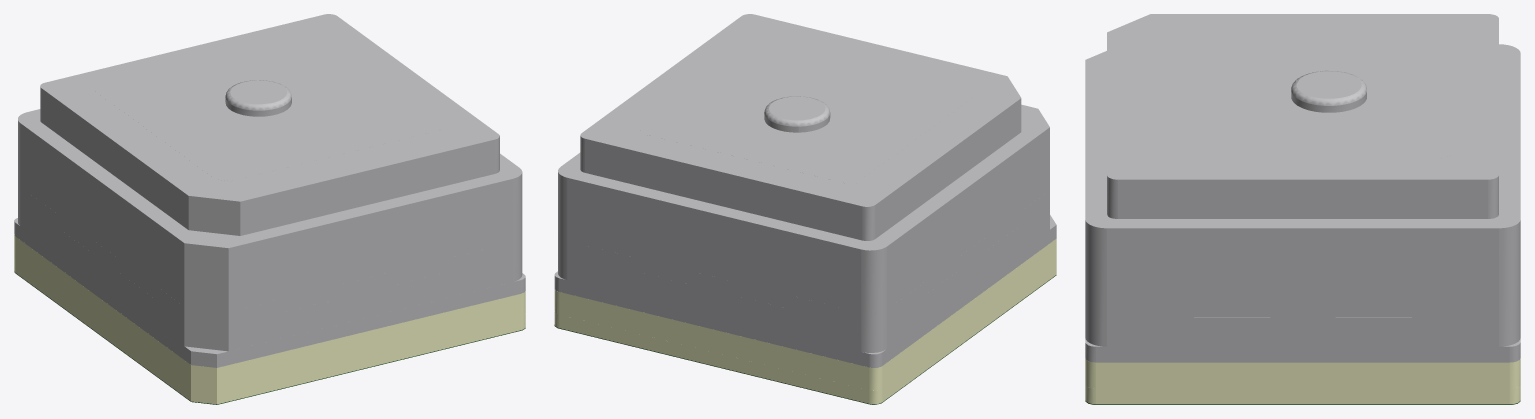
The model's file is sfe-u-blox_dan-f10n.glb.
3 renders of one model, left to right at view 1: azimuth 30°, elevation 25°; view 2: azimuth 150°, elevation 25°; view 3: azimuth 270°, elevation 25°, orthographic. The views are drawn at different scales.
Visible parts, largest first — view 1: 0.5833333333333334_0.5833333333333334_0.5833333333333334_0.8, 0.9166666666666666_1_0.5833333333333334_0, 0_0.08333333333333333_0_0; view 2: 0.5833333333333334_0.5833333333333334_0.5833333333333334_0.8, 0.9166666666666666_1_0.5833333333333334_0, 0_0.08333333333333333_0_0; view 3: 0.5833333333333334_0.5833333333333334_0.5833333333333334_0.8, 0.9166666666666666_1_0.5833333333333334_0, 0_0.08333333333333333_0_0.
Part boxes in pixels (box(x1,y1,x2,y2)): 0.5833333333333334_0.5833333333333334_0.5833333333333334_0.8: box(14, 14, 525, 367); 0.9166666666666666_1_0.5833333333333334_0: box(14, 234, 525, 404); 0_0.08333333333333333_0_0: box(14, 271, 525, 404); 0.5833333333333334_0.5833333333333334_0.5833333333333334_0.8: box(554, 14, 1056, 367); 0.9166666666666666_1_0.5833333333333334_0: box(554, 239, 1056, 404); 0_0.08333333333333333_0_0: box(554, 275, 1056, 404); 0.5833333333333334_0.5833333333333334_0.5833333333333334_0.8: box(1085, 14, 1520, 362); 0.9166666666666666_1_0.5833333333333334_0: box(1085, 358, 1520, 404); 0_0.08333333333333333_0_0: box(1085, 400, 1520, 404).
Size of the model in its own units: 2 by 1.16 by 2.
